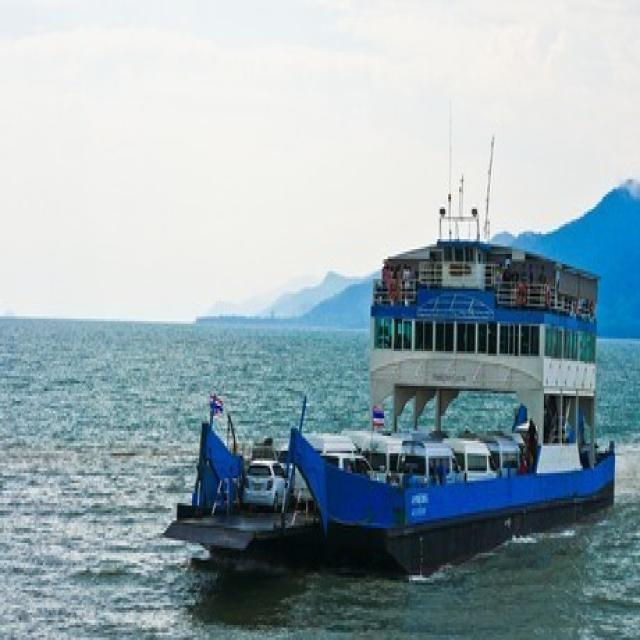cargoship: (173, 140, 600, 533)
